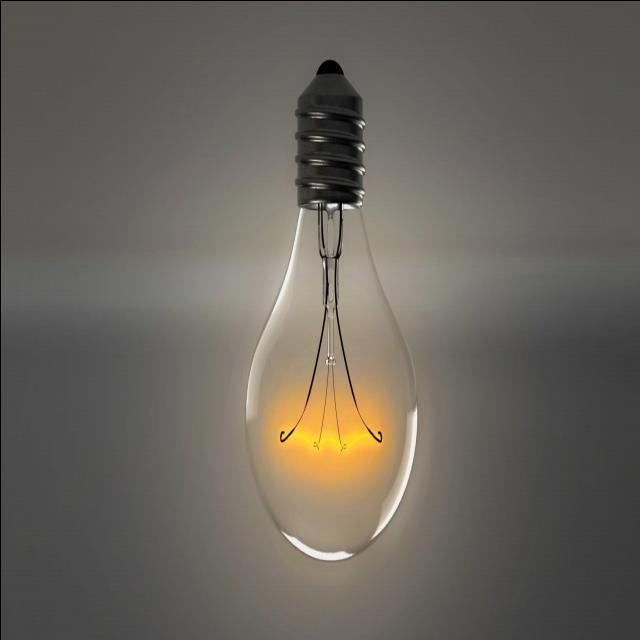light_bulb: (230, 43, 428, 581)
